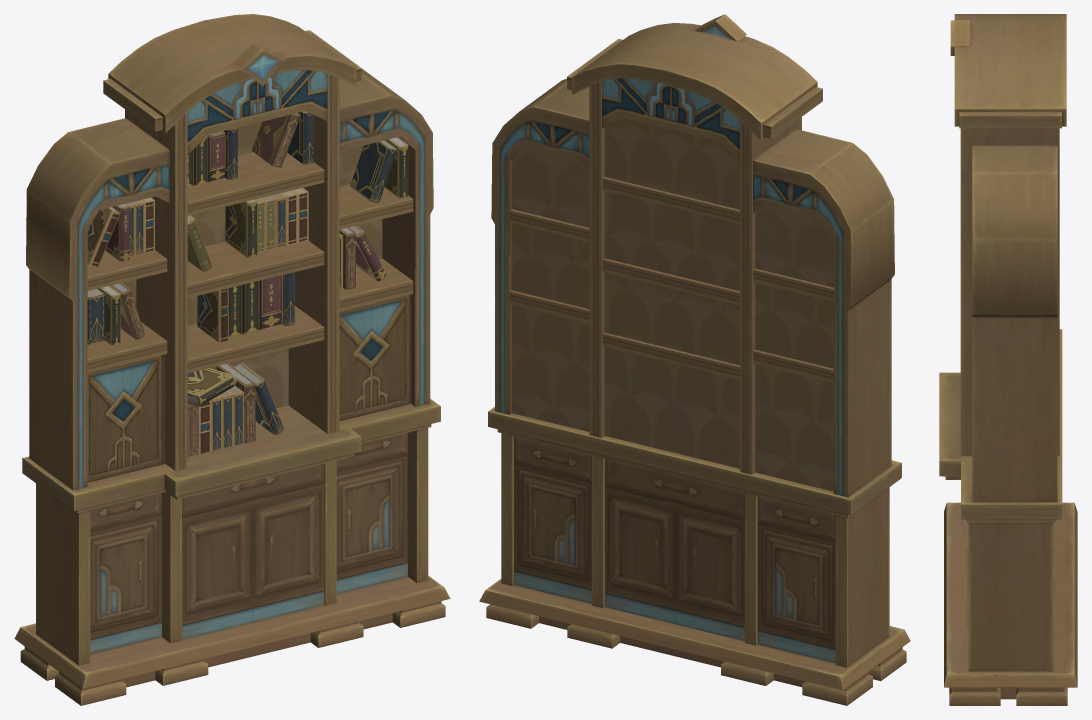
Rendered from Homeworld_Interior_Fd_Cabinet_Prop_Shujia_02_Vo.fbx.
3 renders of one model, left to right at view 1: azimuth 30°, elevation 25°; view 2: azimuth 150°, elevation 25°; view 3: azimuth 270°, elevation 25°, orthographic. The views are drawn at different scales.
Visible parts, largest first — view 1: Indoor_Fd_Prop_Cabinet_A_03_Vo; view 2: Indoor_Fd_Prop_Cabinet_A_03_Vo; view 3: Indoor_Fd_Prop_Cabinet_A_03_Vo.
Boxes of the visible parts, left/top/right/bottom form: Indoor_Fd_Prop_Cabinet_A_03_Vo: left=14, top=14, right=450, bottom=705; Indoor_Fd_Prop_Cabinet_A_03_Vo: left=479, top=14, right=910, bottom=705; Indoor_Fd_Prop_Cabinet_A_03_Vo: left=939, top=14, right=1077, bottom=705.
Size of the model in its own units: 2.25 by 3.57 by 0.7463.
